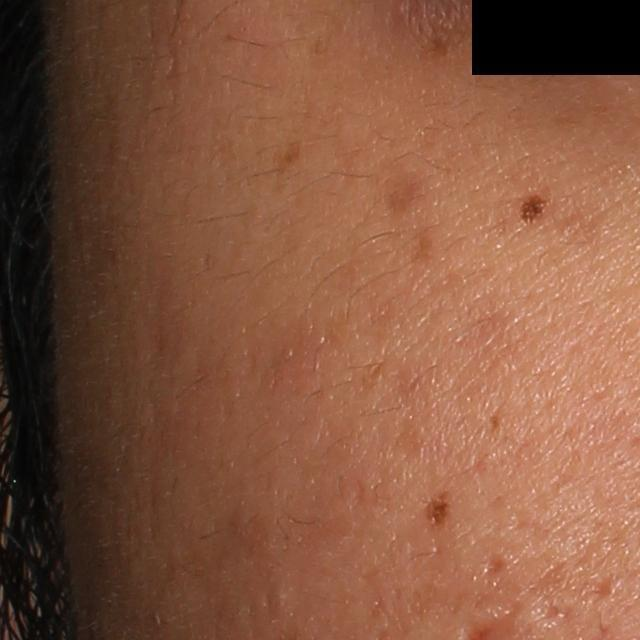atrophic_scar: (478, 550, 508, 584)
melasma: (376, 159, 430, 216), (269, 136, 306, 178)
nevus: (424, 492, 452, 534), (518, 191, 552, 225)
